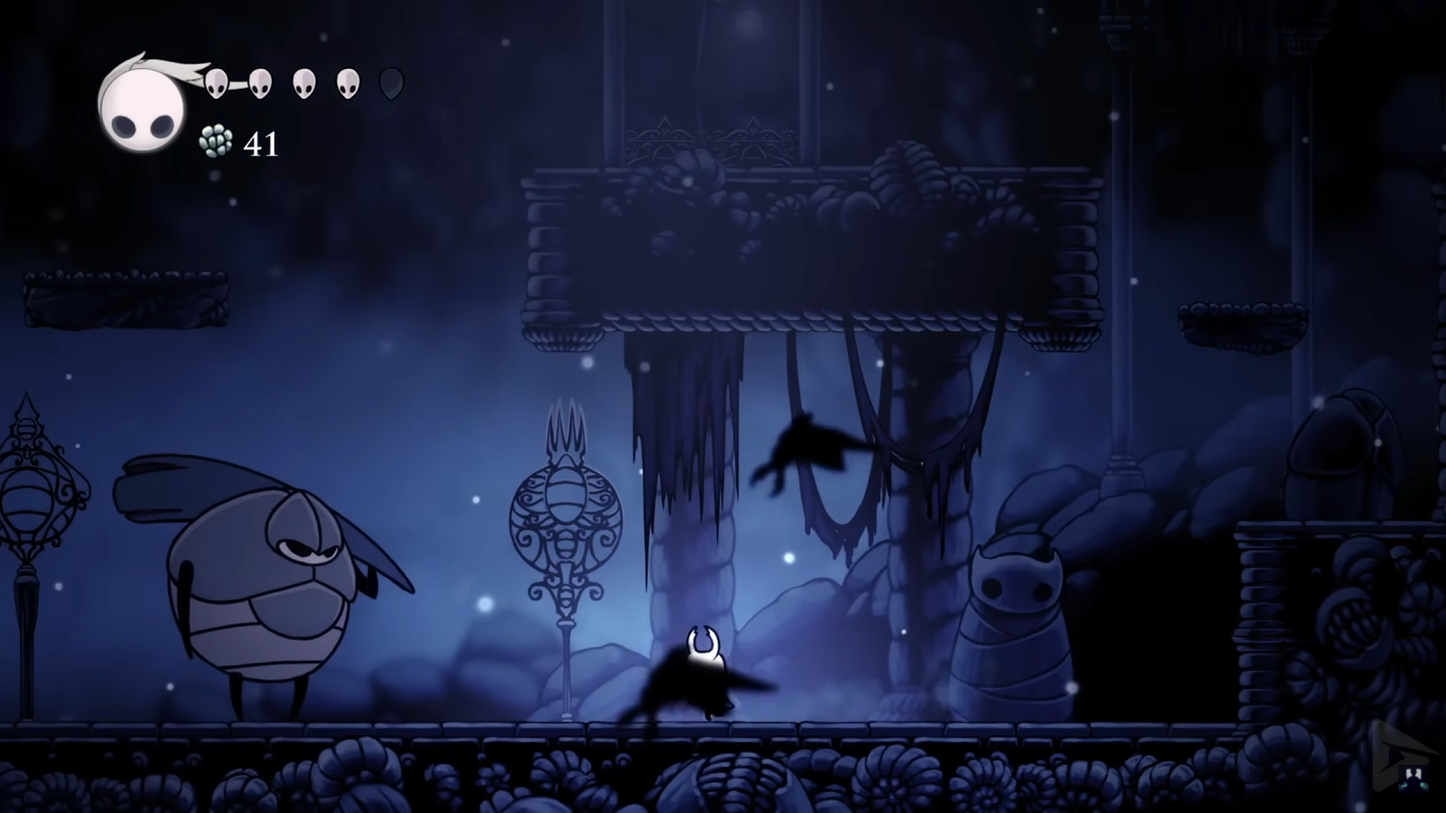HK: (680, 626, 741, 721)
